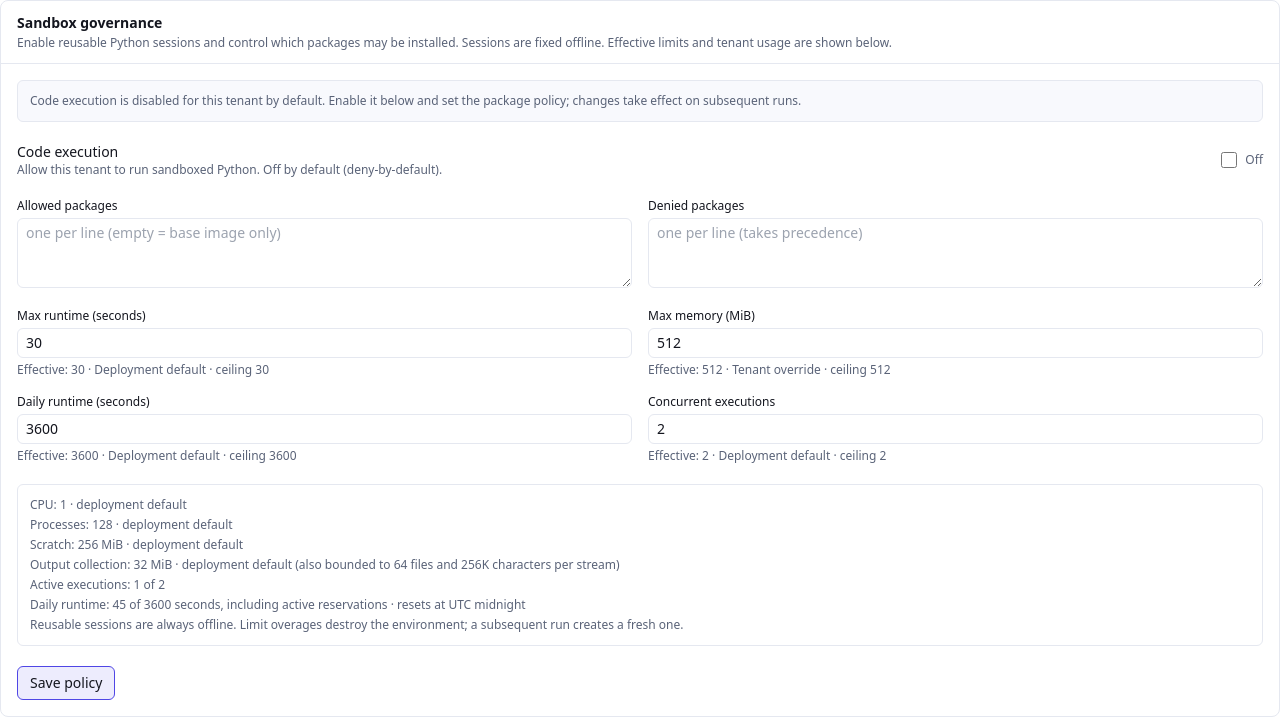
Test: SandboxGovernancePanel › surfaces a write error (403) as a dismissible alert, not a silent no-op
Click the switch named "enable code execution": click(1229, 160) [1221,152,1237,168]
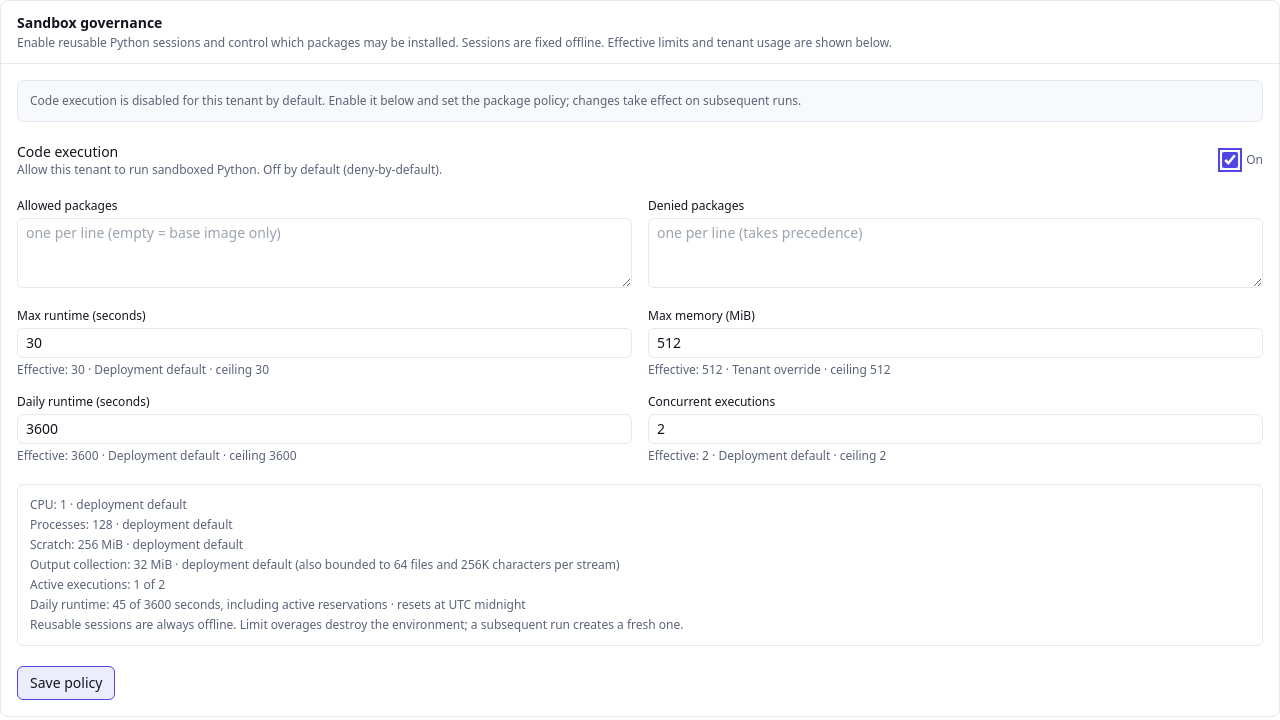
Click the button "Save policy": click(66, 683) [17,666,115,700]
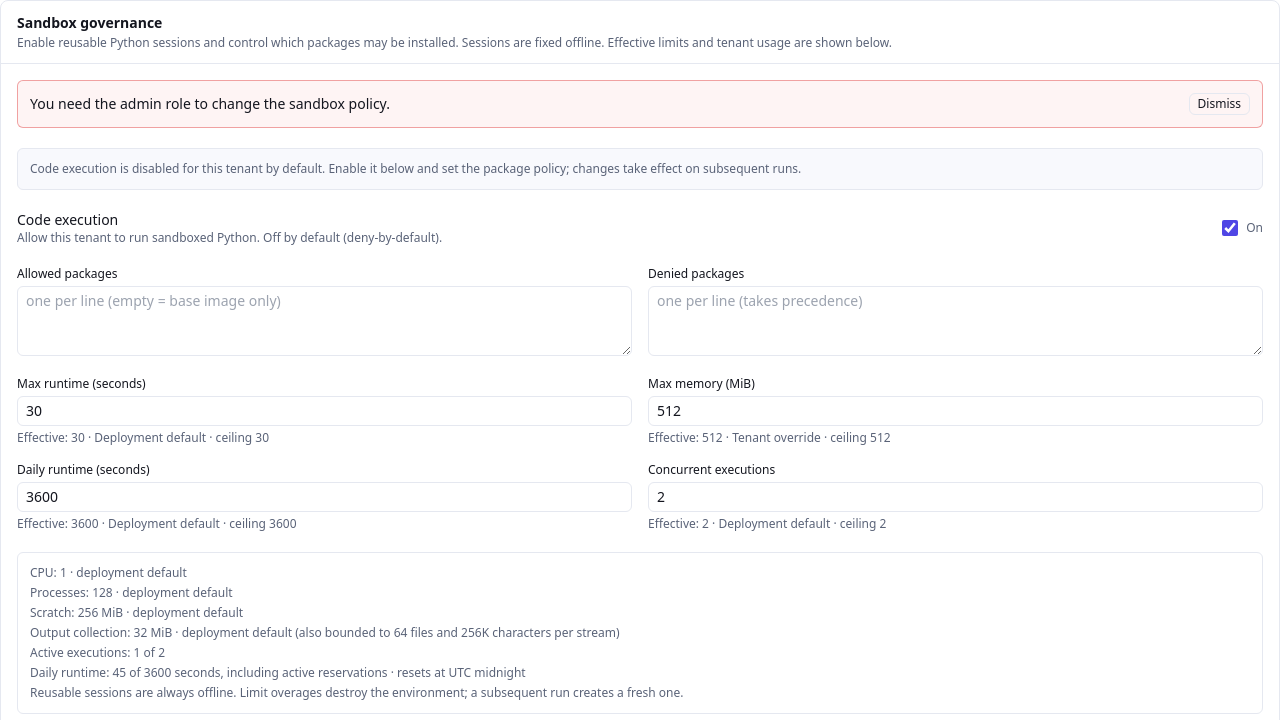
Result: the text "You need the admin role to change the sandbox policy." is shown at [30,94,390,114]
